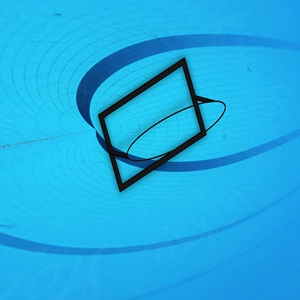circle: (97, 55, 230, 195)
